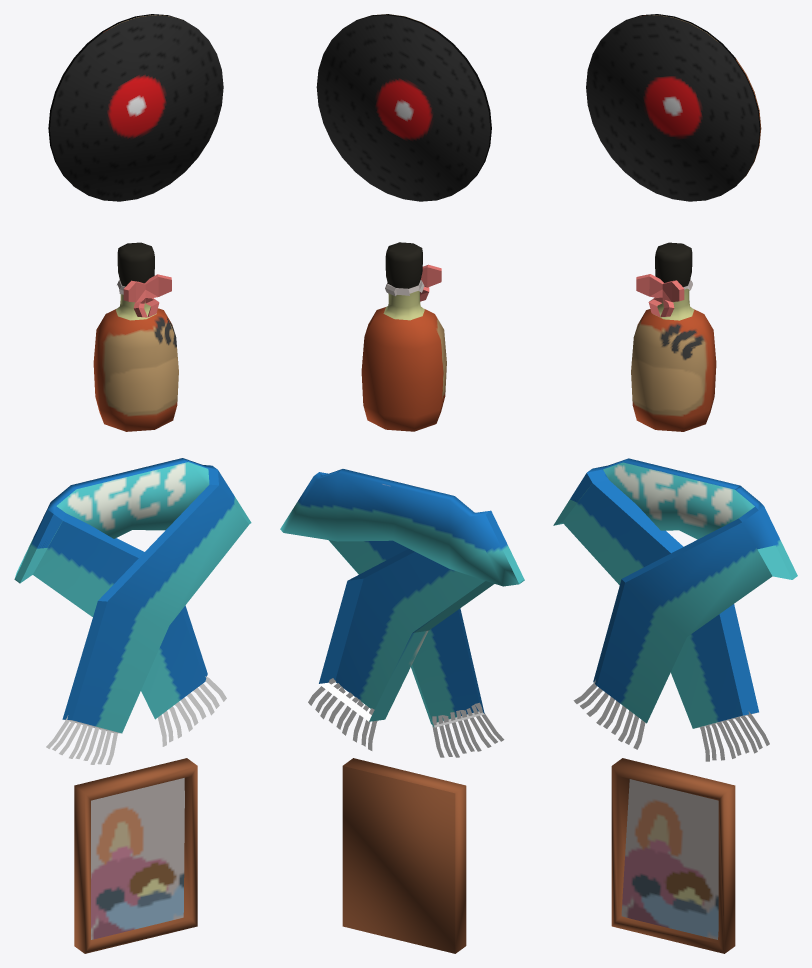
Rendered from main_items.glb.
3 renders of one model, left to right at view 1: azimuth 30°, elevation 25°; view 2: azimuth 150°, elevation 25°; view 3: azimuth 330°, elevation 25°, orthographic.
Visible parts, largest first — view 1: Scarf, Vinyl, Photo, Scotch; view 2: Scarf, Vinyl, Photo, Scotch; view 3: Scarf, Vinyl, Photo, Scotch.
Part boxes in pixels (x1=…): Scarf: x1=14, y1=458, x2=251, y2=764; Vinyl: x1=48, y1=14, x2=223, y2=201; Photo: x1=74, y1=758, x2=197, y2=953; Scotch: x1=93, y1=242, x2=178, y2=431; Scarf: x1=280, y1=469, x2=524, y2=757; Vinyl: x1=316, y1=14, x2=491, y2=201; Photo: x1=342, y1=758, x2=466, y2=953; Scotch: x1=361, y1=242, x2=446, y2=431; Scarf: x1=553, y1=458, x2=797, y2=761; Vinyl: x1=586, y1=14, x2=761, y2=201; Photo: x1=611, y1=758, x2=735, y2=953; Scotch: x1=631, y1=242, x2=716, y2=431.
Bounding box in the file's own units: 0.6184 × 2.31 × 0.1875.
1 material, 1 textured.
